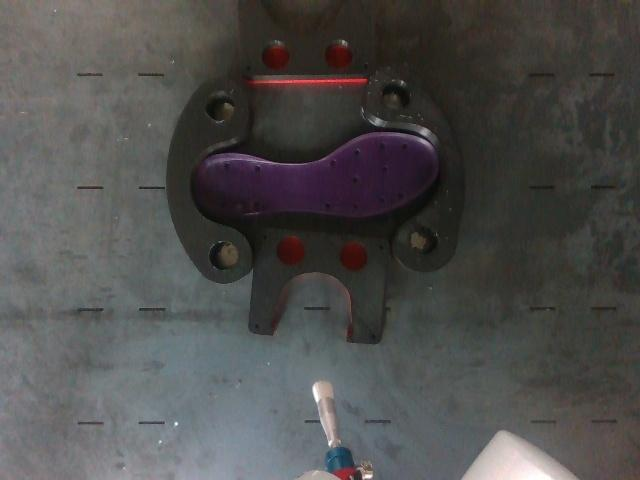shoes: (195, 134, 438, 217)
